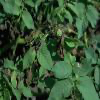Potato leaf late blight: (2, 69, 36, 86), (22, 45, 36, 71), (56, 33, 66, 63)
